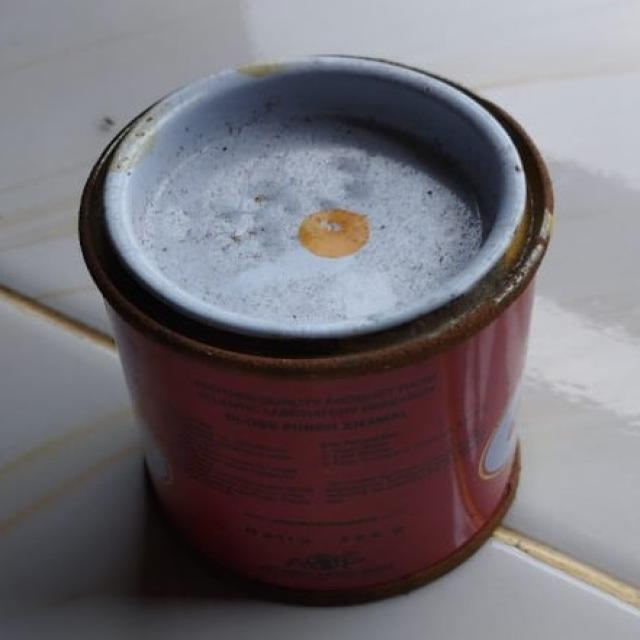Anorganik: (73, 48, 558, 604)
